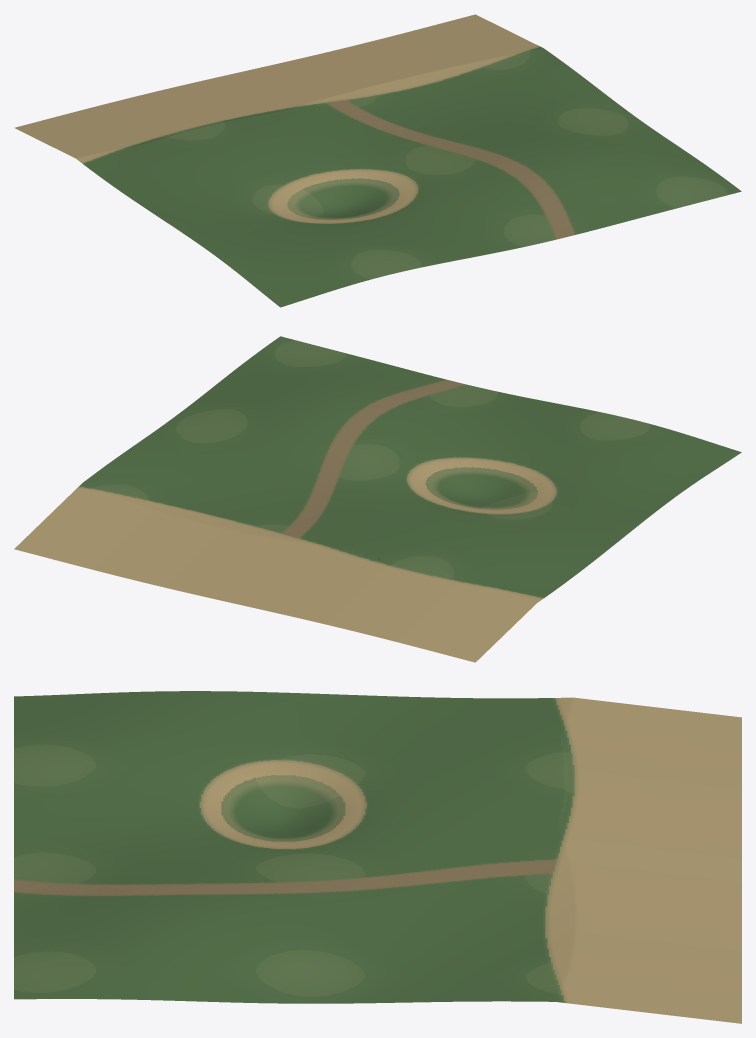
Rendered from Ground.fbx.
3 renders of one model, top to bottom at view 1: azimuth 30°, elevation 25°; view 2: azimuth 150°, elevation 25°; view 3: azimuth 270°, elevation 25°, orthographic. The views are drawn at different scales.
Visible parts, largest first — view 1: Ground; view 2: Ground; view 3: Ground.
Part boxes in pixels (x1=…): Ground: x1=14, y1=14, x2=741, y2=307; Ground: x1=14, y1=336, x2=741, y2=662; Ground: x1=14, y1=691, x2=741, y2=1023.
Bounding box in the file's own units: 10000 × 10000 × 568.
